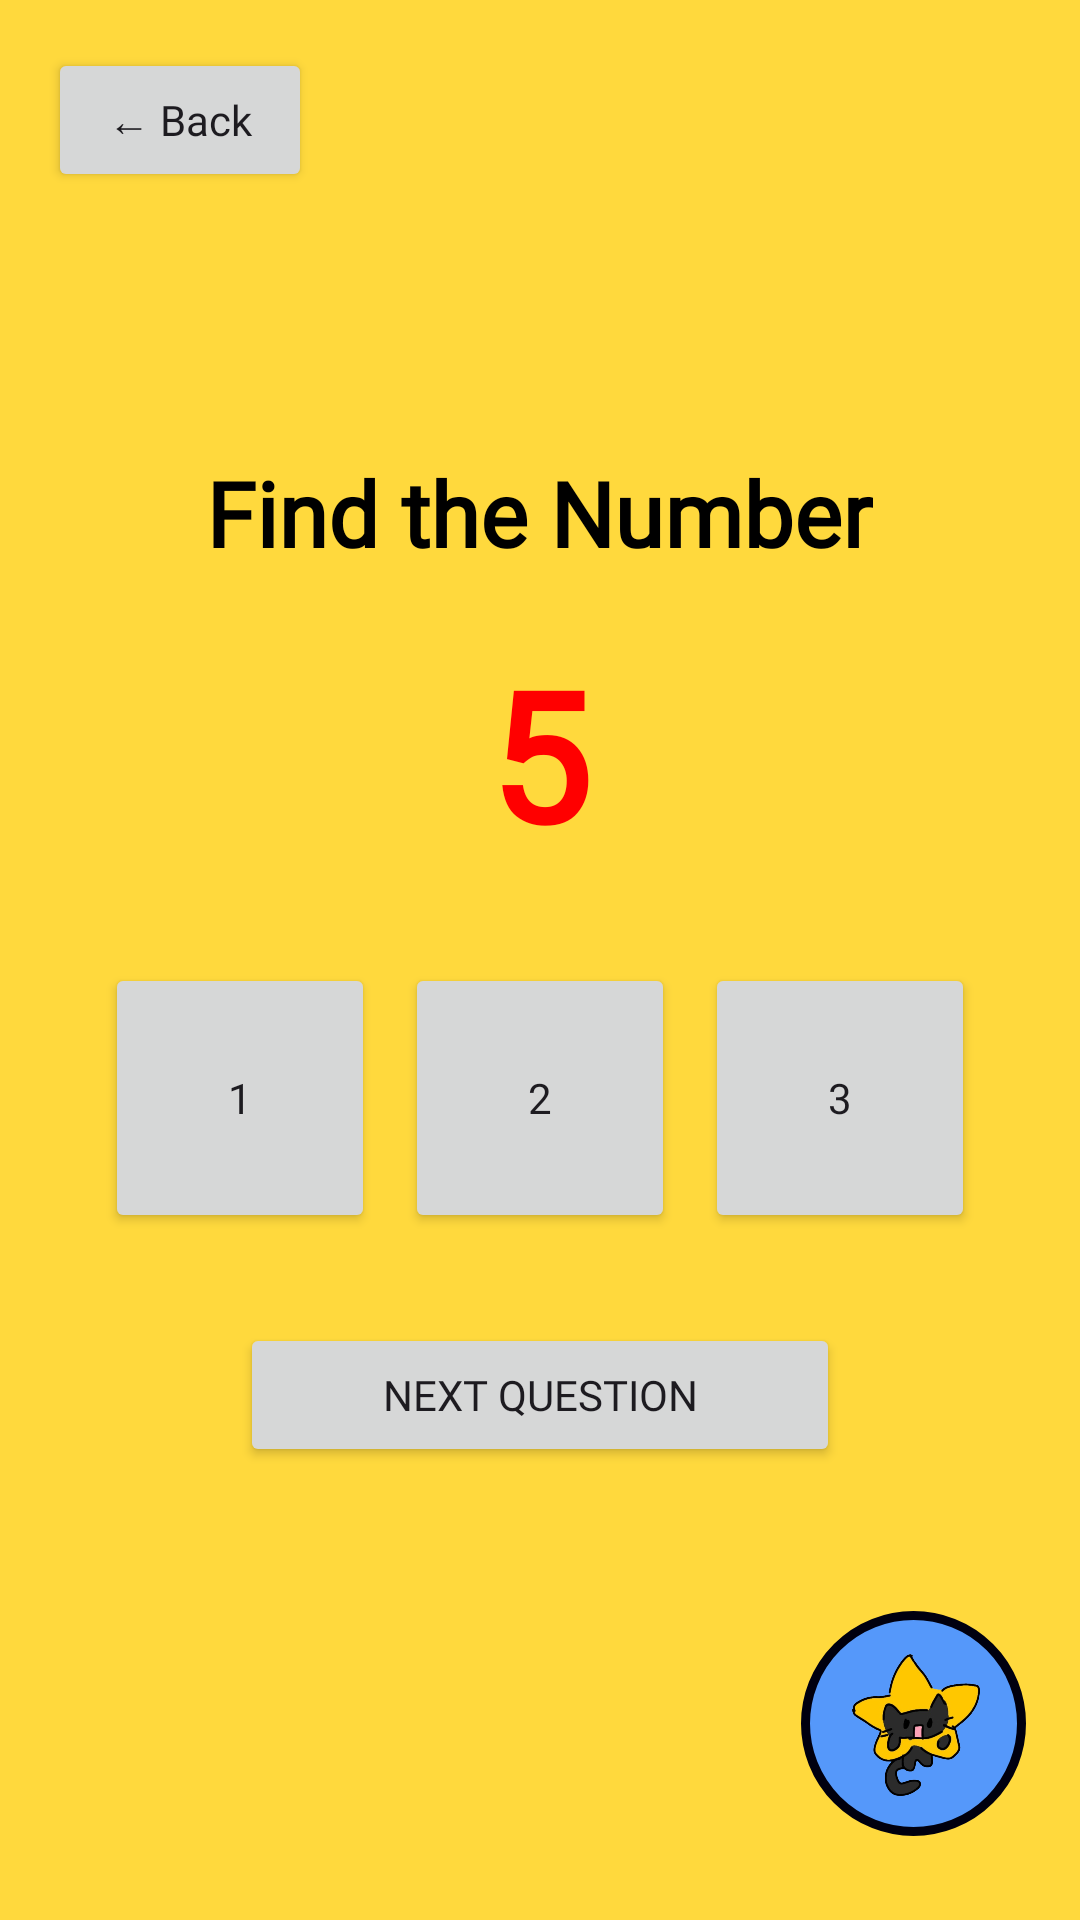

Screen size 1080 x 1920. Icon name, then its box in pixels as region(x1, y1, x2, y2):
star: region(801, 1611, 1026, 1836)
